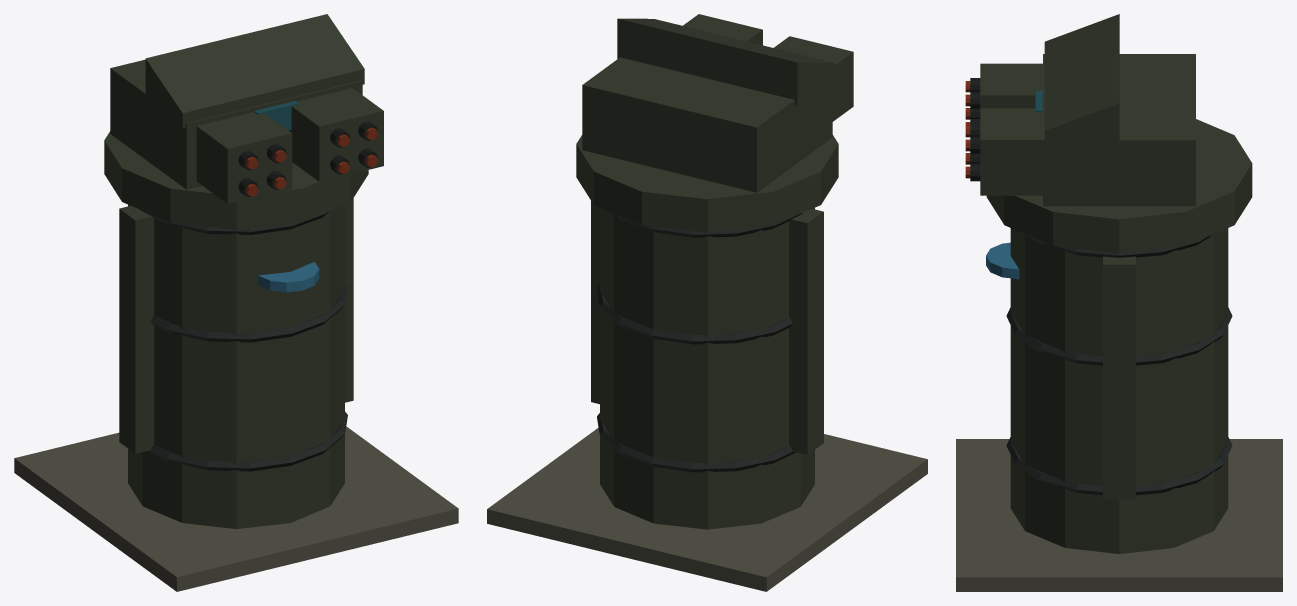
Rendered from Bastion_AdvancedGunTower_Static.glb.
3 renders of one model, left to right at view 1: azimuth 30°, elevation 25°; view 2: azimuth 150°, elevation 25°; view 3: azimuth 270°, elevation 25°, orthographic.
Visible parts, largest first — view 1: world; view 2: world; view 3: world.
Part boxes in pixels (box(x1,y1,x2,y2)): world: box(14, 14, 458, 591); world: box(487, 14, 927, 591); world: box(956, 14, 1282, 591).
Bounding box in the file's own units: 4.8 × 7.52 × 4.8.
Materials: 1 (1 with a texture image).
